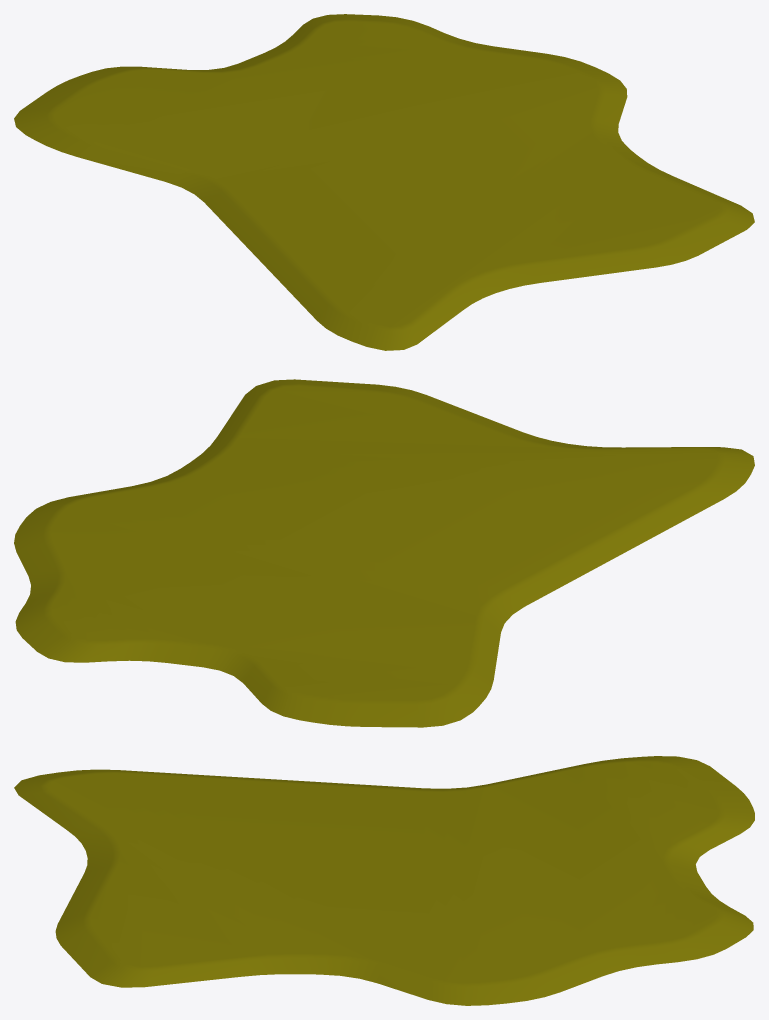
The model's file is GroundPadding03_4.fbx.
3 renders of one model, top to bottom at view 1: azimuth 30°, elevation 25°; view 2: azimuth 150°, elevation 25°; view 3: azimuth 270°, elevation 25°, orthographic. The views are drawn at different scales.
Parts seen in each view (by area): view 1: LOD0; view 2: LOD0; view 3: LOD0.
Boxes of the visible parts, <box> form: LOD0: <box>14,14,754,350</box>; LOD0: <box>14,379,754,727</box>; LOD0: <box>14,756,754,1005</box>.
Size of what is drawn, in the model's own units: 1323 by 1658 by 20.75.
